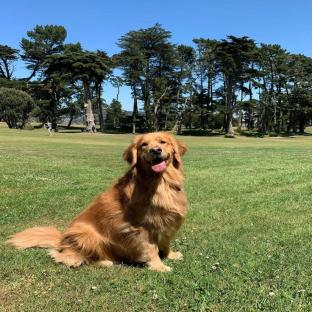Animal: (6, 132, 187, 271)
